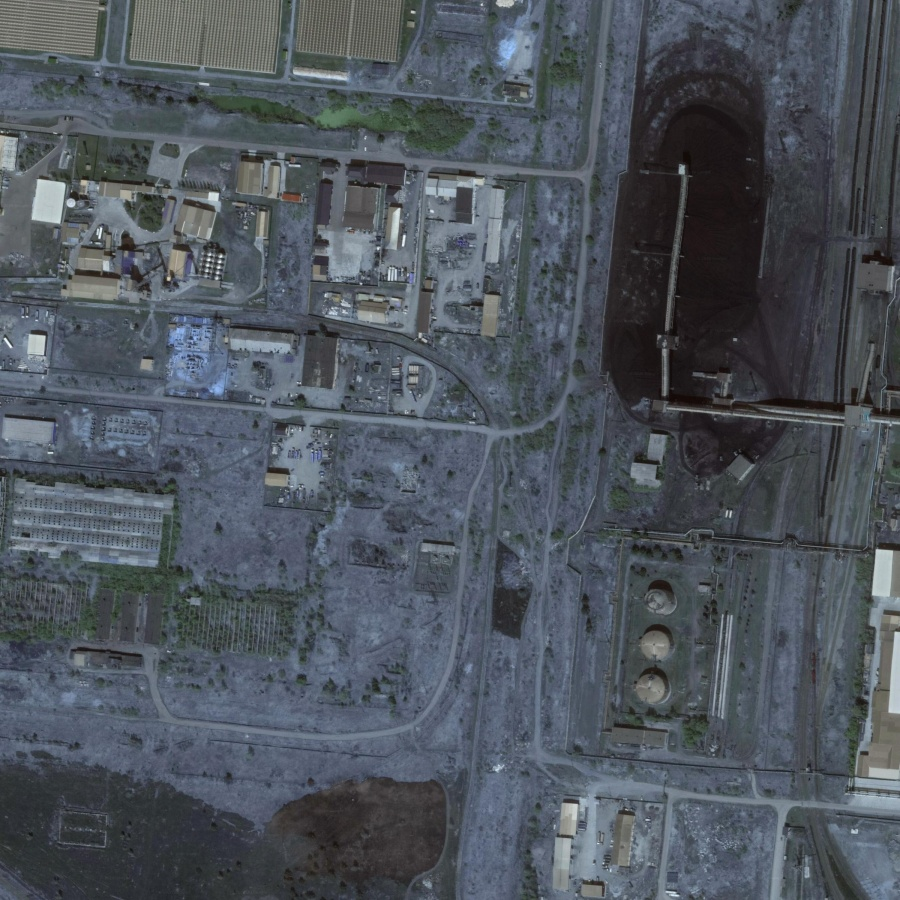PowerPlant: (595, 522, 743, 764)
